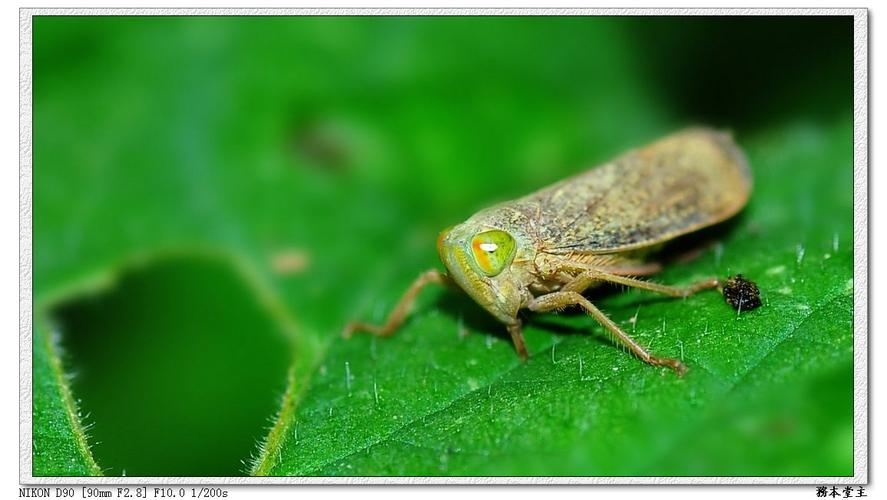Cicadellidae: (373, 125, 759, 371)
